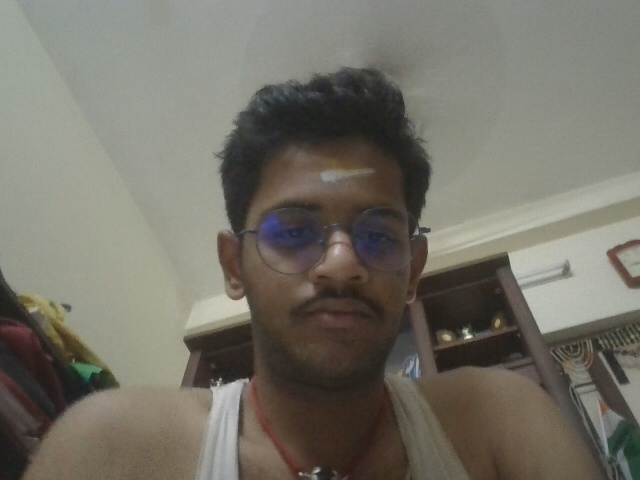real: (221, 140, 452, 371)
